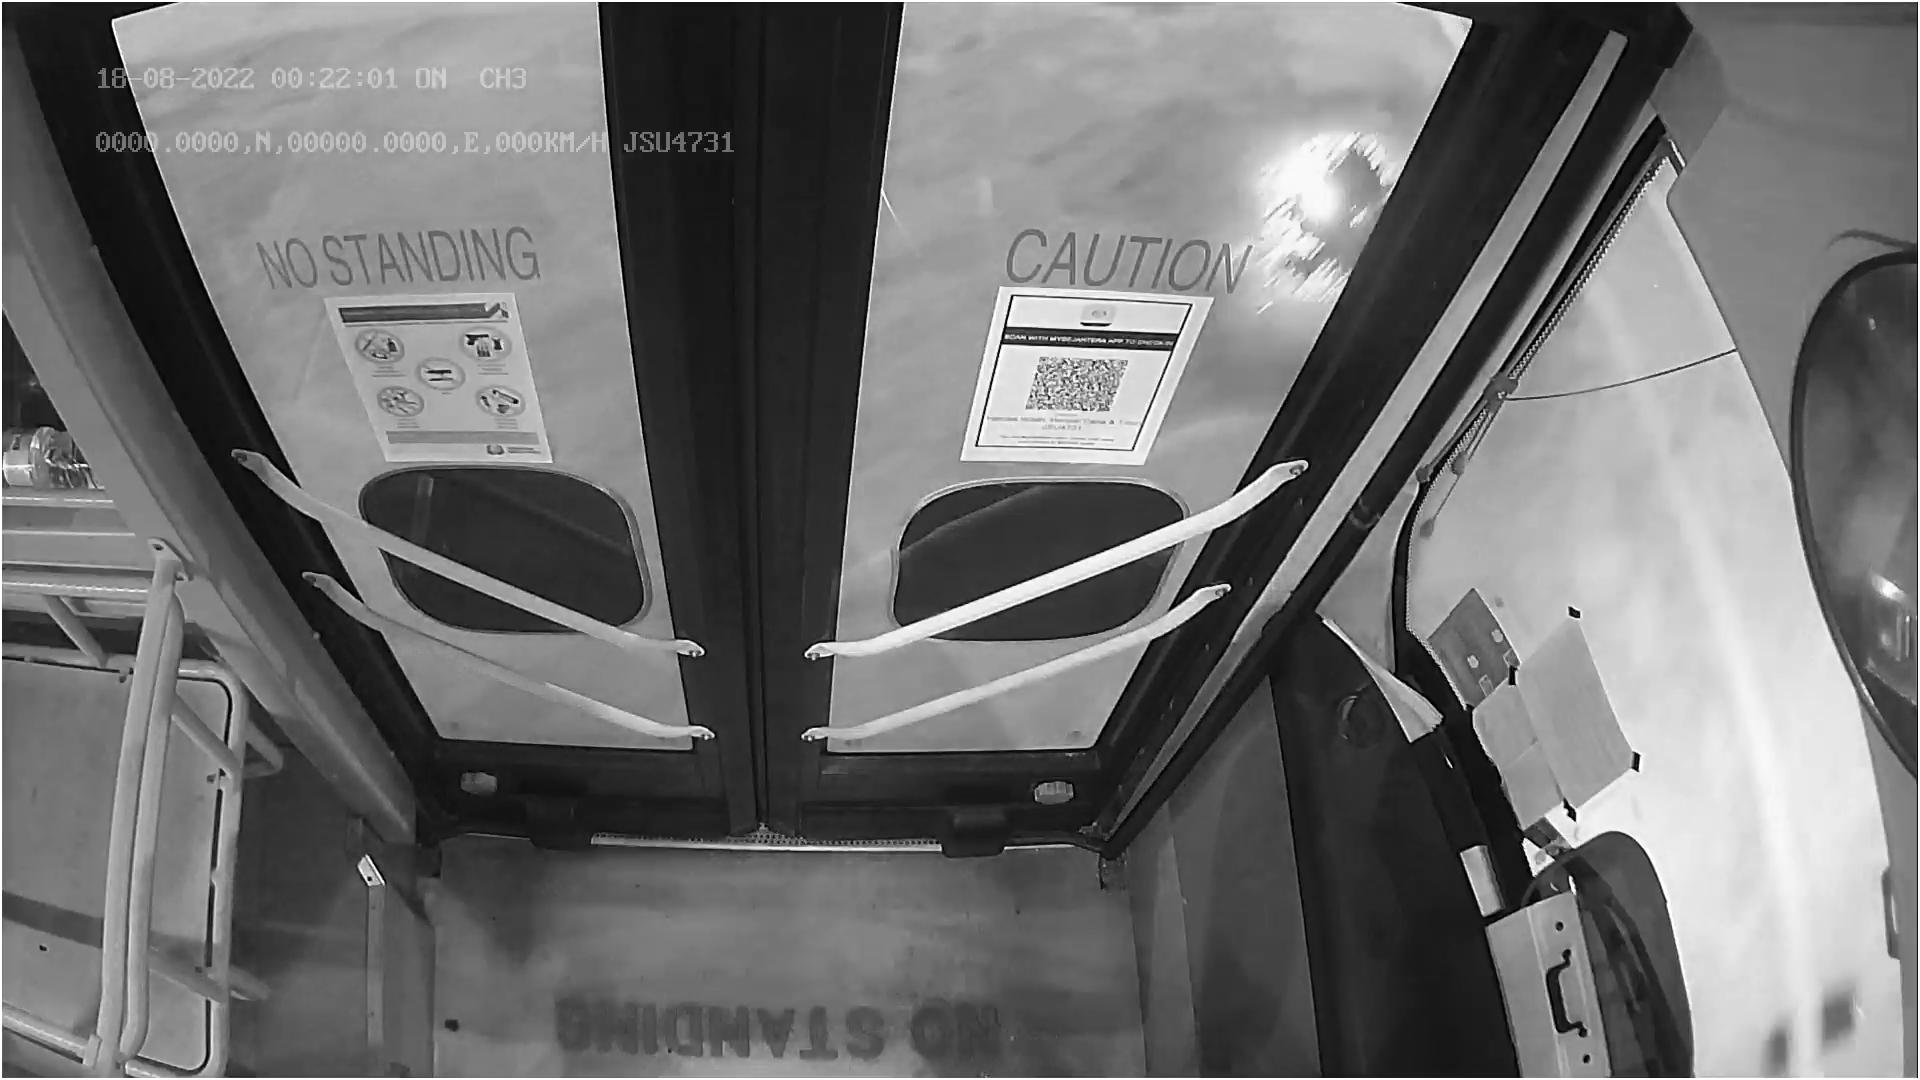close: (127, 0, 1448, 160)
